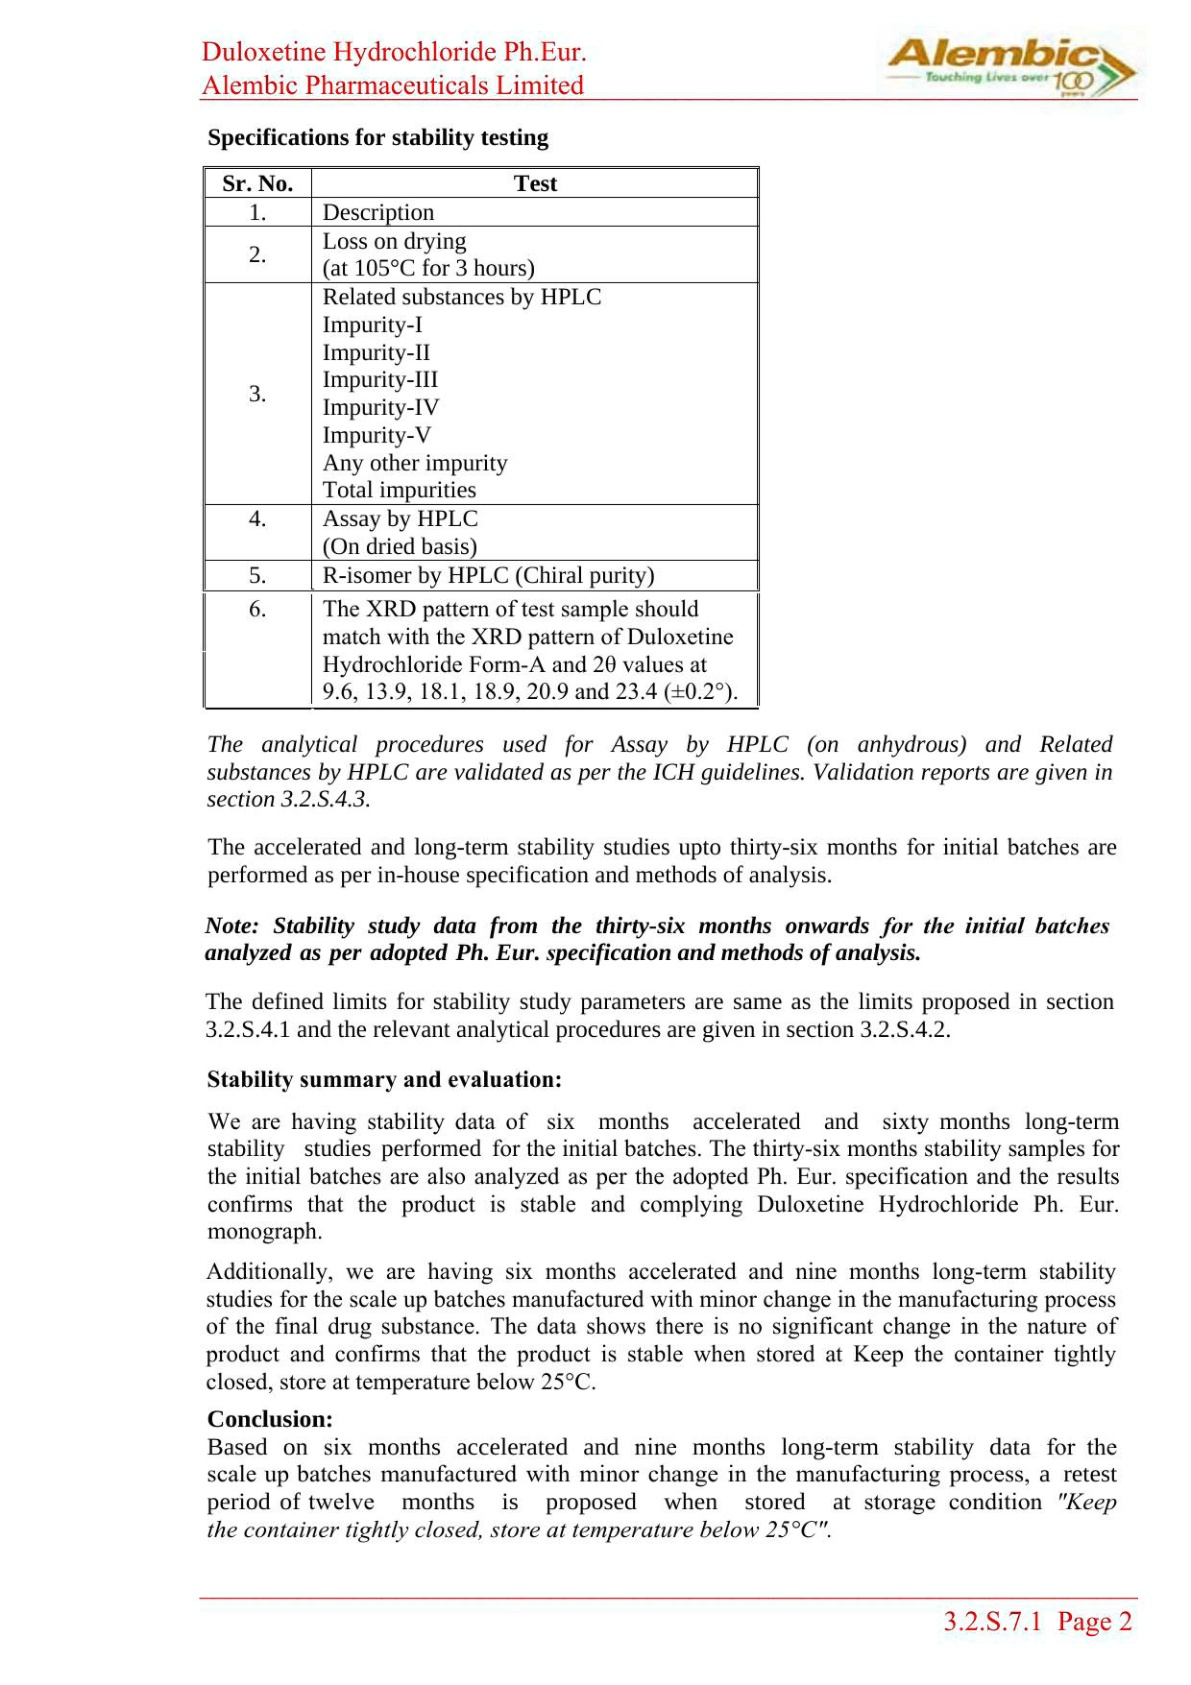full_lined: (201, 165, 760, 710)
